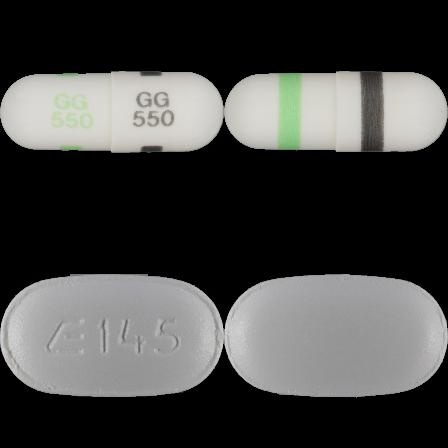55289-610: (0, 0, 224, 224)
